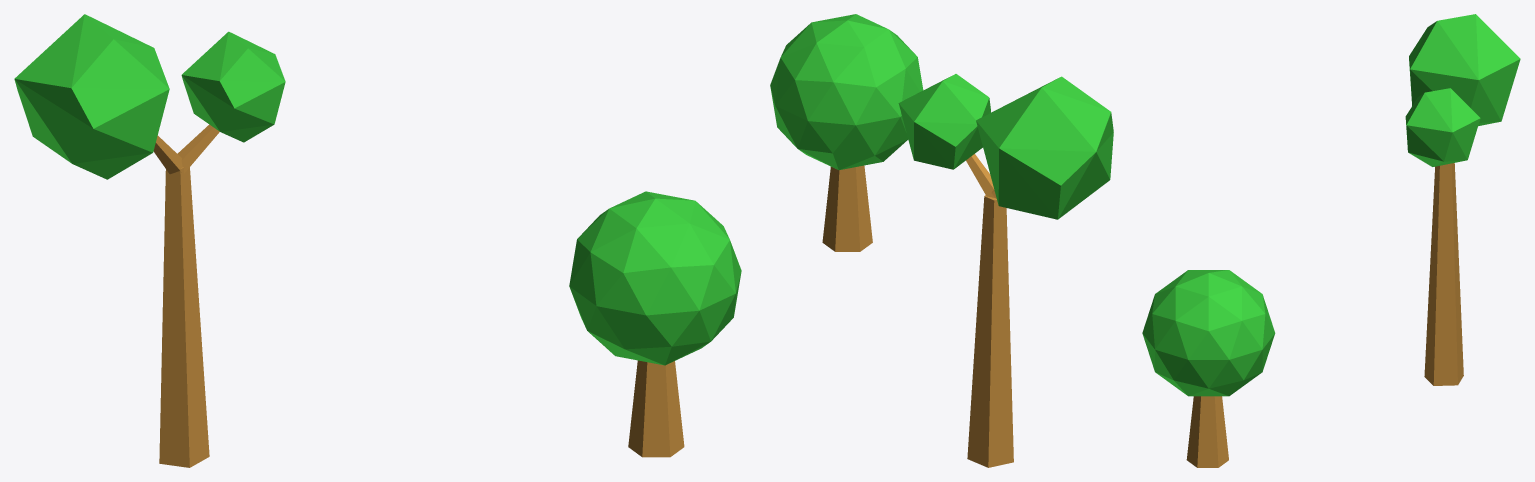
The model's file is OneLeaveTree.fbx.
3 views of the same model, side by side, from view 1: azimuth 30°, elevation 25°; view 2: azimuth 150°, elevation 25°; view 3: azimuth 270°, elevation 25° (orthographic). The views are drawn at different scales.
Visible parts, largest first — view 1: OtherTree.003, Trunk.001; view 2: OtherTree.003, Trunk.001; view 3: OtherTree.003, Trunk.001.
Boxes of the visible parts, x1,y1,x2,y2 form: OtherTree.003: (14, 14, 285, 467); Trunk.001: (569, 191, 741, 457); OtherTree.003: (898, 74, 1113, 467); Trunk.001: (770, 14, 923, 251); OtherTree.003: (1405, 14, 1520, 385); Trunk.001: (1142, 270, 1275, 467).
Bounding box in the file's own units: 173 × 139 × 142.
